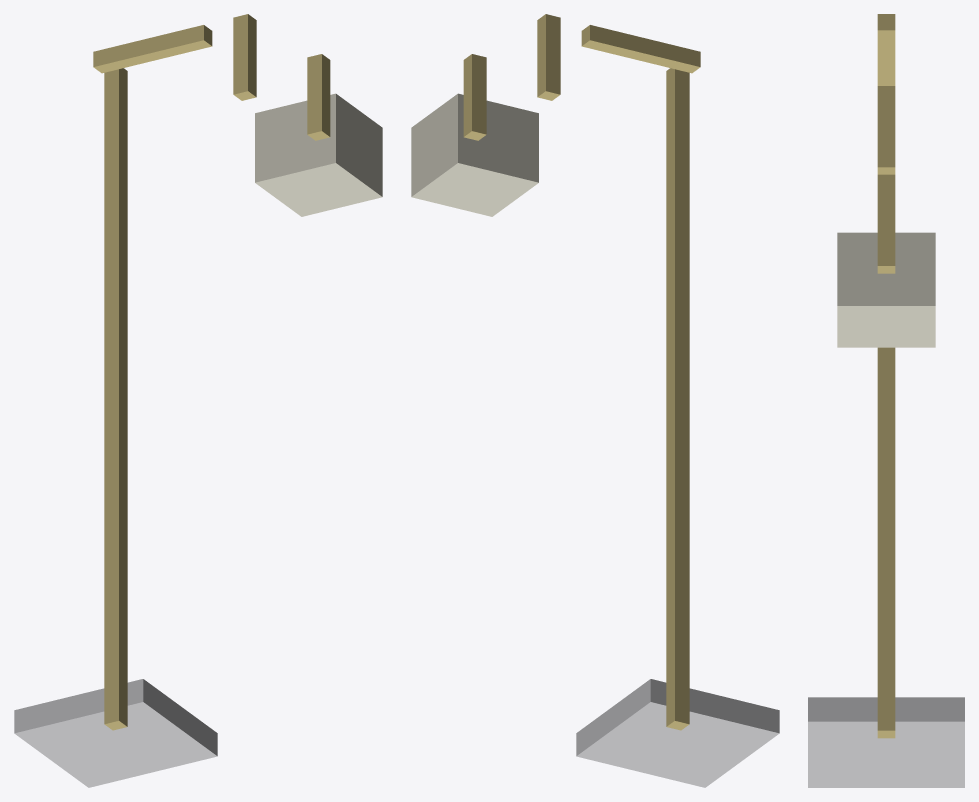
The model's file is lamp.glb.
3 renders of one model, left to right at view 1: azimuth 30°, elevation 25°; view 2: azimuth 150°, elevation 25°; view 3: azimuth 270°, elevation 25°, orthographic. The views are drawn at different scales.
Size of the model in its own units: 0.835 by 1.8 by 0.35.
